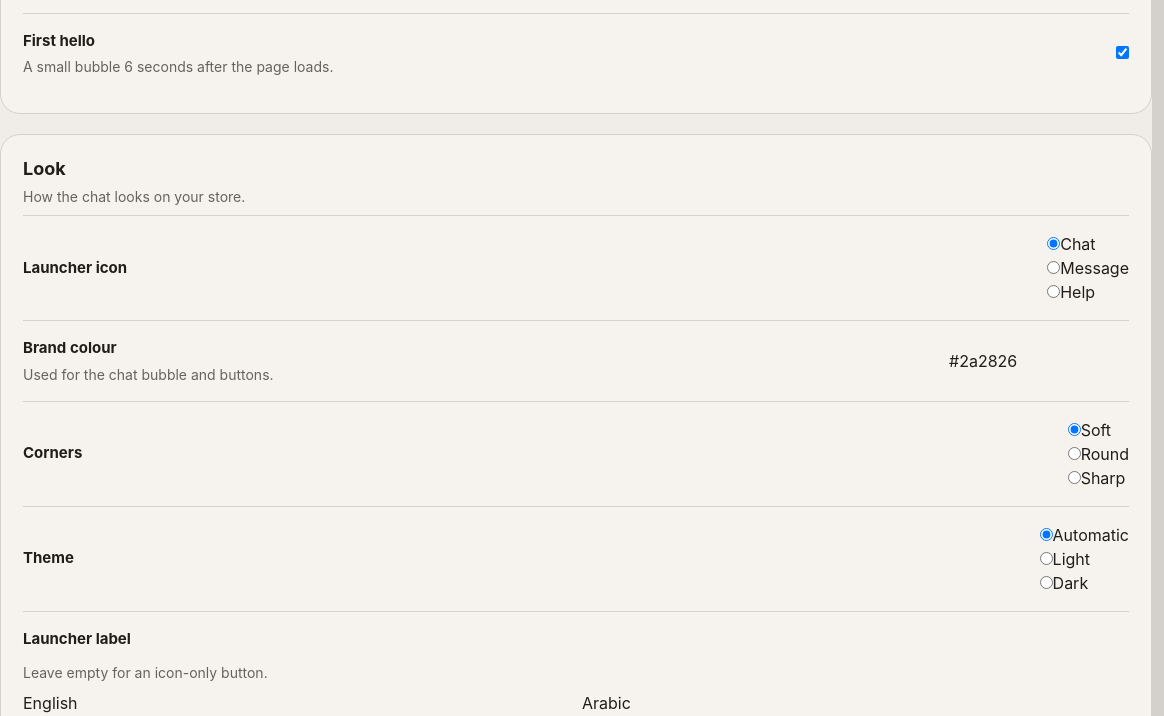
Test case: V16ChatStudio › takes a brand colour typed by hand once it is whole
The width and height of the screenshot is (1164, 716).
(page scrolled)
Replace the text in the field named "Brand colour" with "#12". click: [1050, 361]
box: [949, 349, 1152, 373]
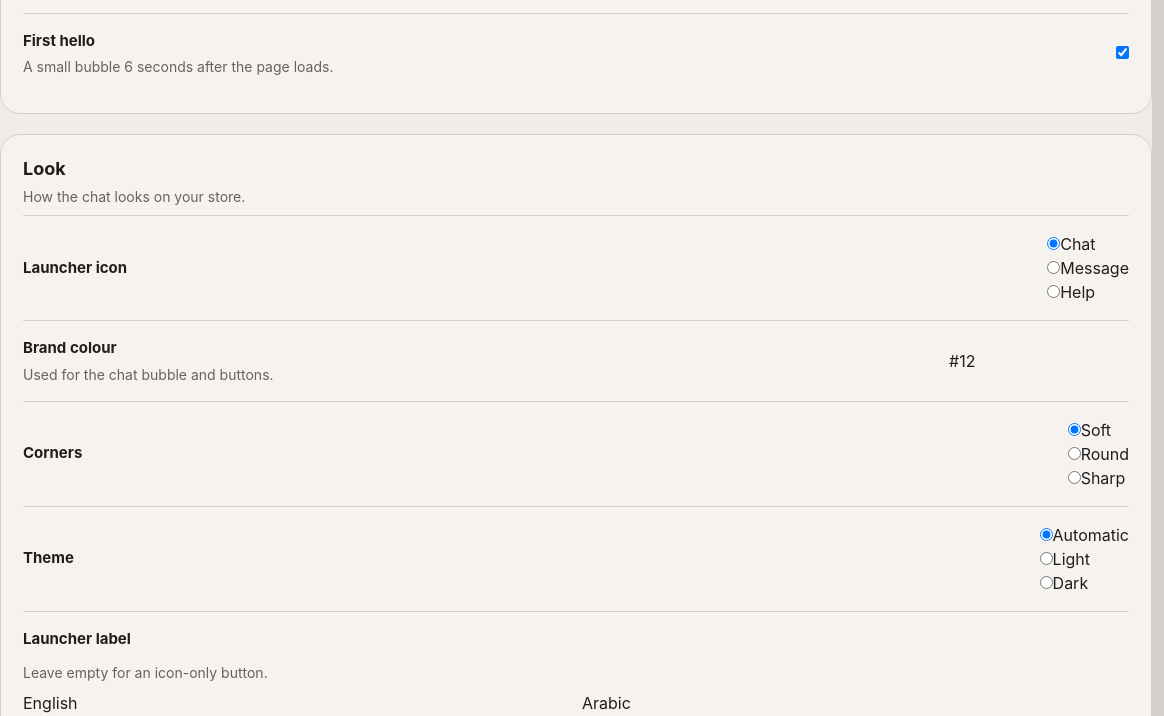
Replace the text in the field named "Brand colour" with "#123456". click: [1050, 361]
box: [949, 349, 1152, 373]
(page scrolled)
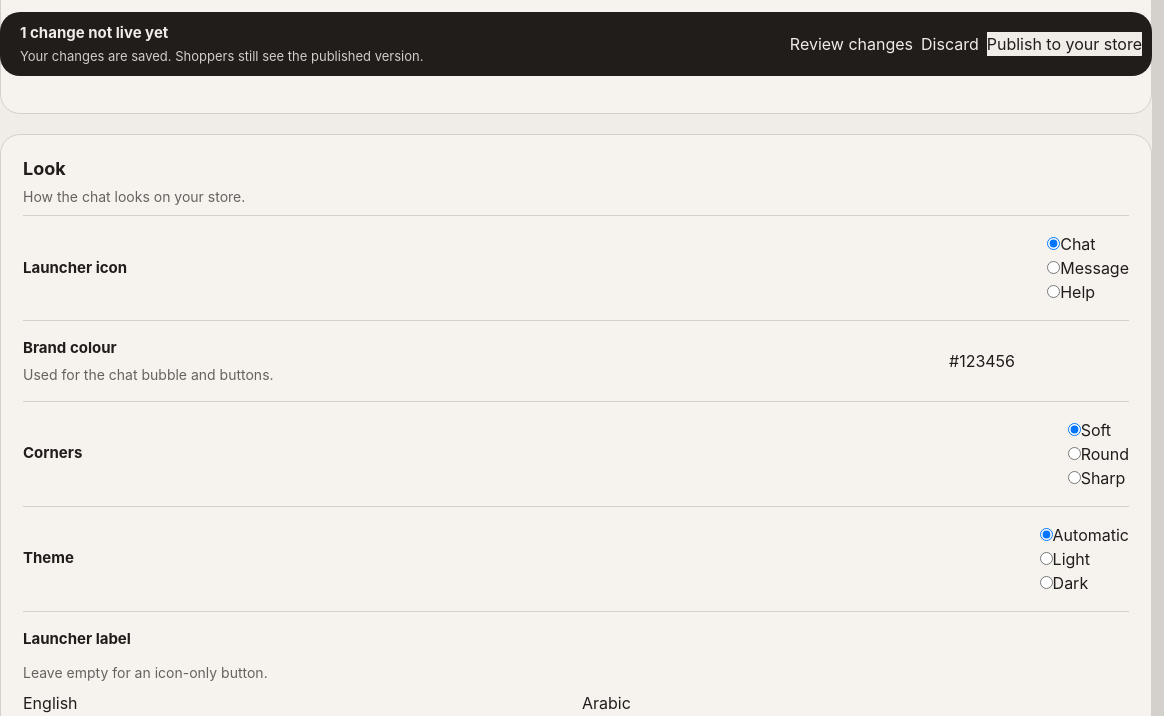
Now the message reads "1 change not live yet", box [20, 23, 168, 42]
